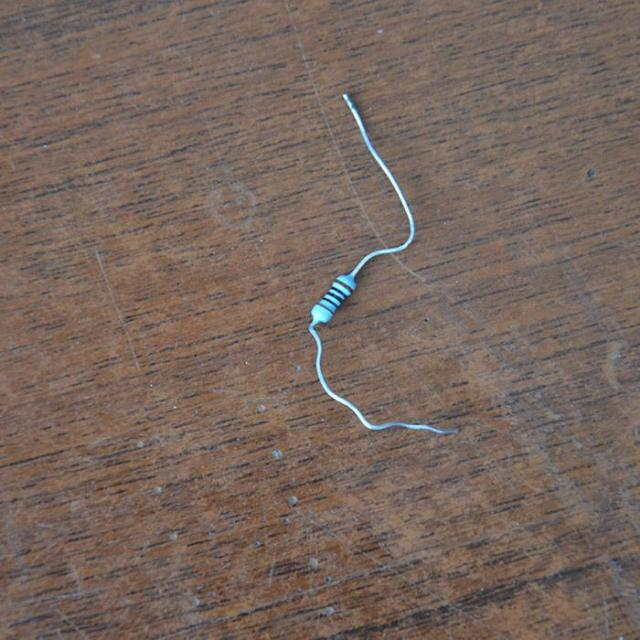Resistor: (305, 270, 363, 329)
black: (330, 286, 347, 300), (328, 291, 344, 304), (323, 297, 337, 306)
brown: (334, 279, 354, 294), (317, 301, 335, 315)
